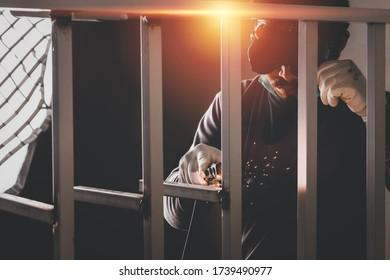gloves: (318, 59, 366, 122), (178, 143, 221, 187)
